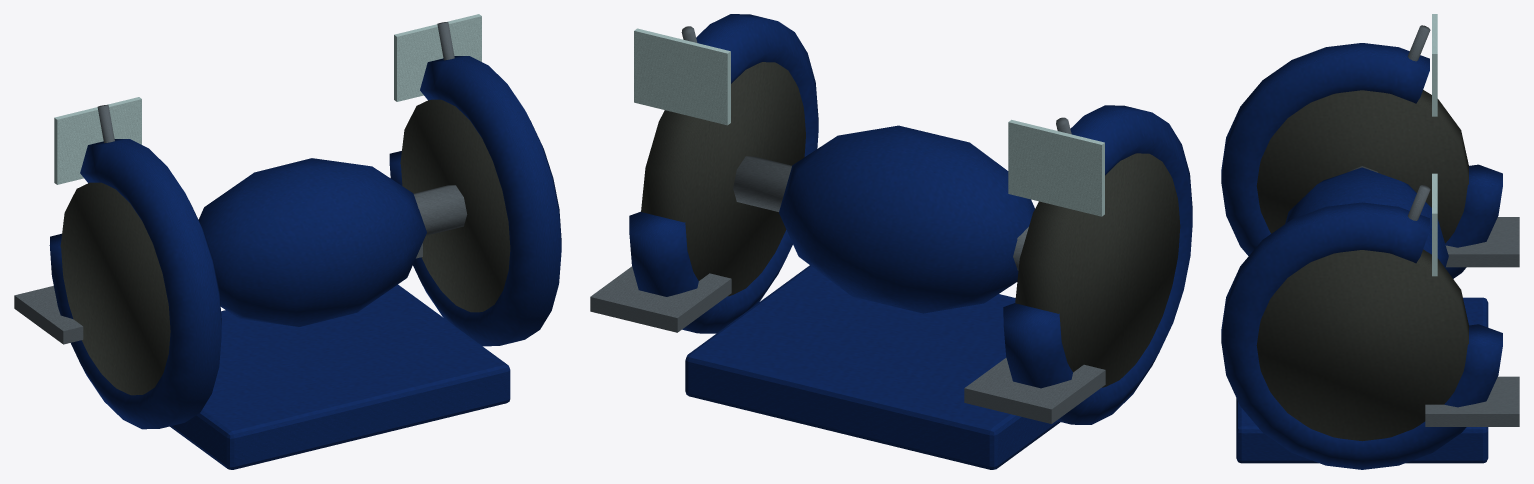
File: BenchGrinder.gltf
The picture shows the model from 3 angles, left to right: view 1: azimuth 30°, elevation 25°; view 2: azimuth 150°, elevation 25°; view 3: azimuth 270°, elevation 25°; orthographic projection. The views are drawn at different scales.
Parts seen in each view (by area): view 1: BenchGrinder__Body, Transparent eye shield, Transparent eye shield.001; view 2: BenchGrinder__Body, Transparent eye shield, Transparent eye shield.001; view 3: BenchGrinder__Body, Transparent eye shield.001, Transparent eye shield.
Part boxes in pixels (x1=…): BenchGrinder__Body: x1=14, y1=22, x2=561, y2=469; Transparent eye shield: x1=54, y1=97, x2=141, y2=184; Transparent eye shield.001: x1=394, y1=14, x2=481, y2=101; BenchGrinder__Body: x1=590, y1=14, x2=1192, y2=469; Transparent eye shield: x1=1008, y1=119, x2=1104, y2=216; Transparent eye shield.001: x1=634, y1=28, x2=730, y2=125; BenchGrinder__Body: x1=1221, y1=25, x2=1519, y2=469; Transparent eye shield.001: x1=1432, y1=173, x2=1437, y2=276; Transparent eye shield: x1=1432, y1=14, x2=1437, y2=116.
Bounding box in the file's own units: 0.42 × 0.2874 × 0.2654.
Materials: 1 (1 with a texture image).
